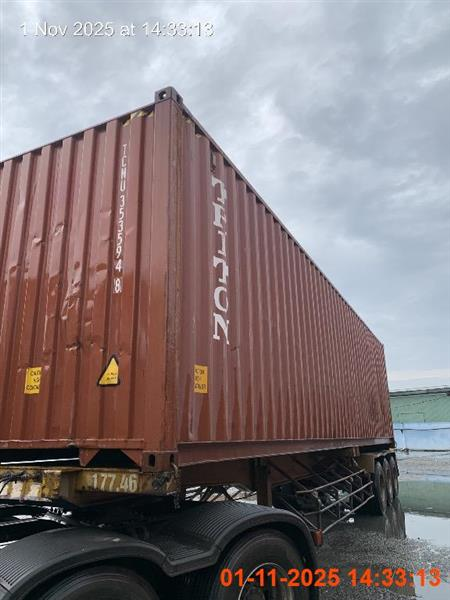crack: (1, 89, 407, 596)
